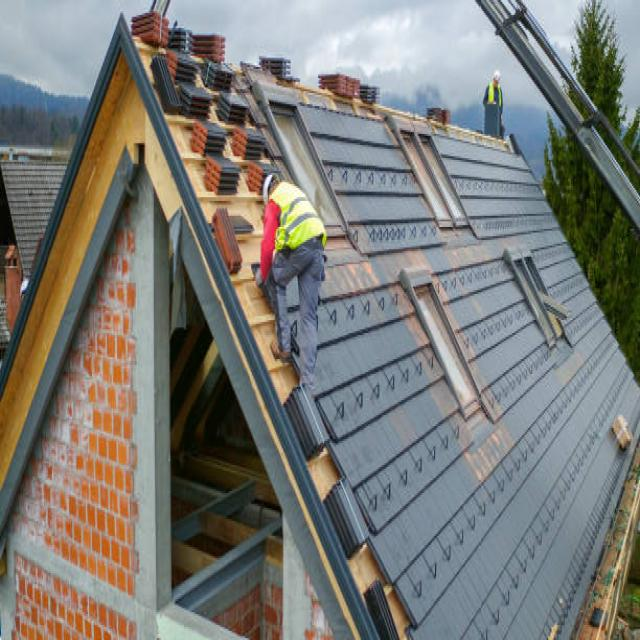Roofing: (18, 20, 640, 639)
